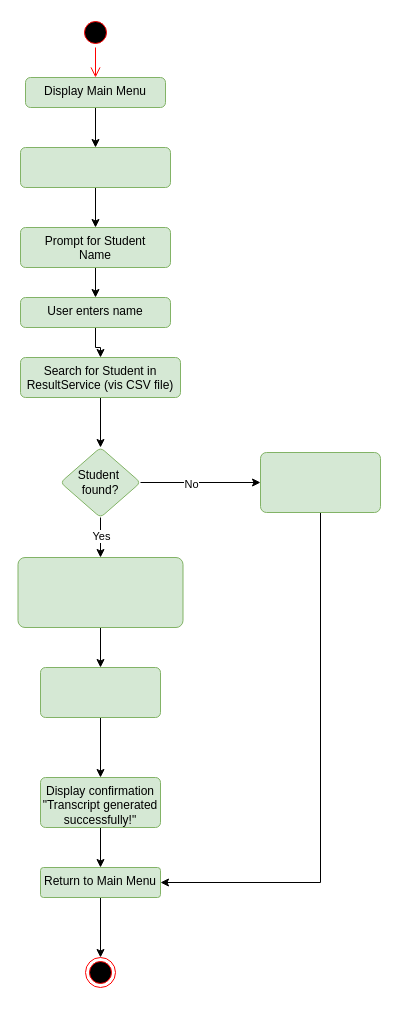
Image size: 398x1013. Some labels were removed from this diagram. Here are the shapes that lost their labels. From the top down, the box of each, then its label:
(20, 146, 170, 188): User selects option "Generate Transcript"
(260, 452, 380, 512): Diplay "Student not found!" mesage
(17, 556, 183, 628): Generate Transcript (Create Transcript objcet, compute GPA, prepare formatting)
(40, 666, 160, 718): Export Transcript File (Write to txt file to disk)
